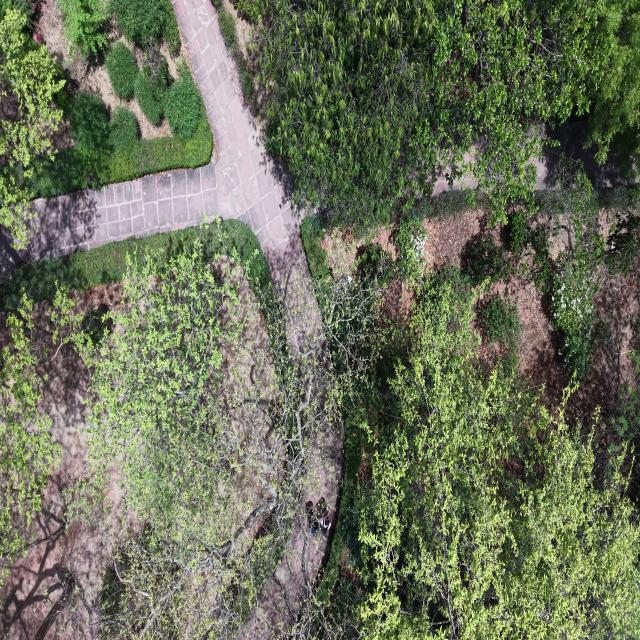DRY_AREA: (23, 0, 320, 360), (24, 0, 319, 360), (25, 0, 305, 284), (173, 0, 321, 371), (0, 350, 137, 639), (0, 350, 108, 639), (36, 0, 170, 139), (478, 255, 570, 408), (569, 262, 639, 418), (530, 118, 628, 190)
PATHWAYS: (23, 0, 319, 357), (29, 0, 304, 281)
VEGETATION_TREE: (52, 0, 639, 639), (74, 219, 639, 638), (293, 221, 639, 638), (16, 222, 339, 637), (296, 267, 639, 638), (49, 222, 318, 637), (358, 270, 639, 638), (88, 240, 330, 637), (238, 0, 636, 221), (245, 0, 634, 222), (89, 242, 281, 637), (0, 2, 213, 246), (89, 243, 255, 547), (461, 158, 639, 378), (461, 159, 638, 378), (27, 0, 213, 197), (27, 43, 213, 197), (0, 219, 270, 312), (0, 280, 82, 586), (0, 283, 75, 585), (510, 168, 605, 377), (98, 528, 275, 639), (302, 218, 403, 409), (8, 110, 213, 201), (0, 296, 60, 585), (32, 112, 213, 197), (0, 7, 64, 246), (106, 41, 203, 143), (107, 43, 203, 141), (586, 0, 639, 174), (594, 310, 639, 509), (534, 161, 606, 261), (59, 0, 179, 58), (552, 253, 598, 377), (603, 317, 639, 460), (212, 0, 255, 107), (70, 93, 109, 178), (477, 295, 522, 365), (58, 0, 109, 58), (606, 188, 639, 276), (165, 64, 203, 140), (135, 49, 173, 125), (112, 0, 174, 46), (70, 94, 109, 163), (465, 233, 509, 284), (606, 208, 639, 275), (479, 296, 521, 347), (416, 190, 486, 219), (395, 216, 426, 279), (105, 42, 138, 99), (142, 48, 173, 101), (358, 244, 392, 289), (134, 74, 163, 125), (611, 130, 639, 180), (109, 107, 138, 152), (506, 208, 529, 256), (217, 2, 237, 50), (163, 0, 180, 54), (0, 0, 34, 24), (234, 0, 262, 23)
